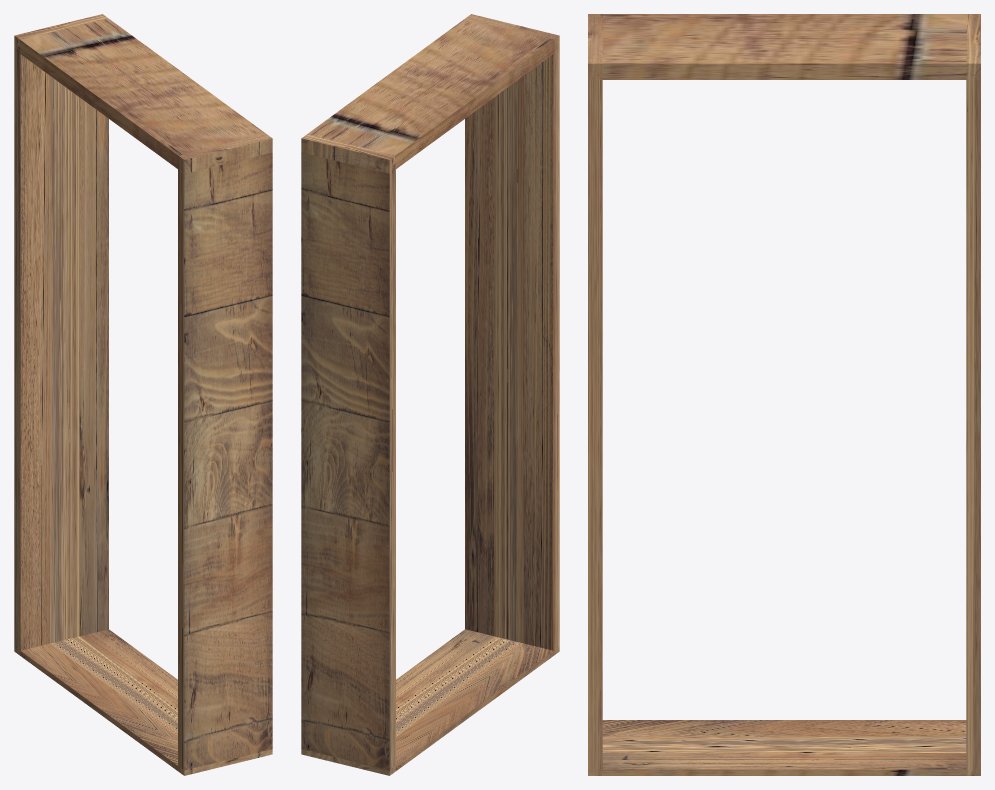
The model's file is doorFrame.fbx.
The picture shows the model from 3 angles, left to right: view 1: azimuth 30°, elevation 25°; view 2: azimuth 150°, elevation 25°; view 3: azimuth 270°, elevation 25°; orthographic projection. The views are drawn at different scales.
Parts seen in each view (by area): view 1: DoorFrame; view 2: DoorFrame; view 3: DoorFrame.
Part boxes in pixels (x1,y1,x2,y2): DoorFrame: (14,14,272,775); DoorFrame: (301,14,559,775); DoorFrame: (588,14,980,775).
Bounding box in the file's own units: 30 × 200 × 100.
